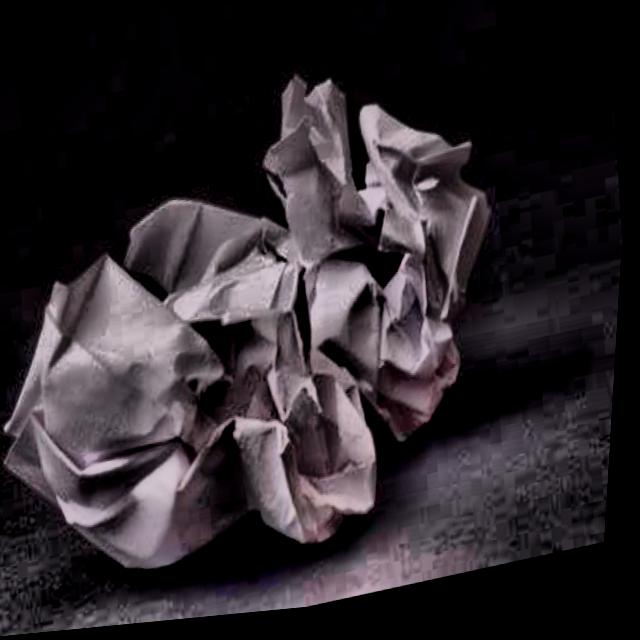Paper: (0, 18, 564, 640)
